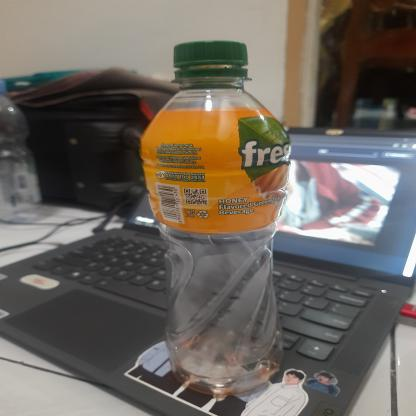plastic: (137, 37, 291, 398)
